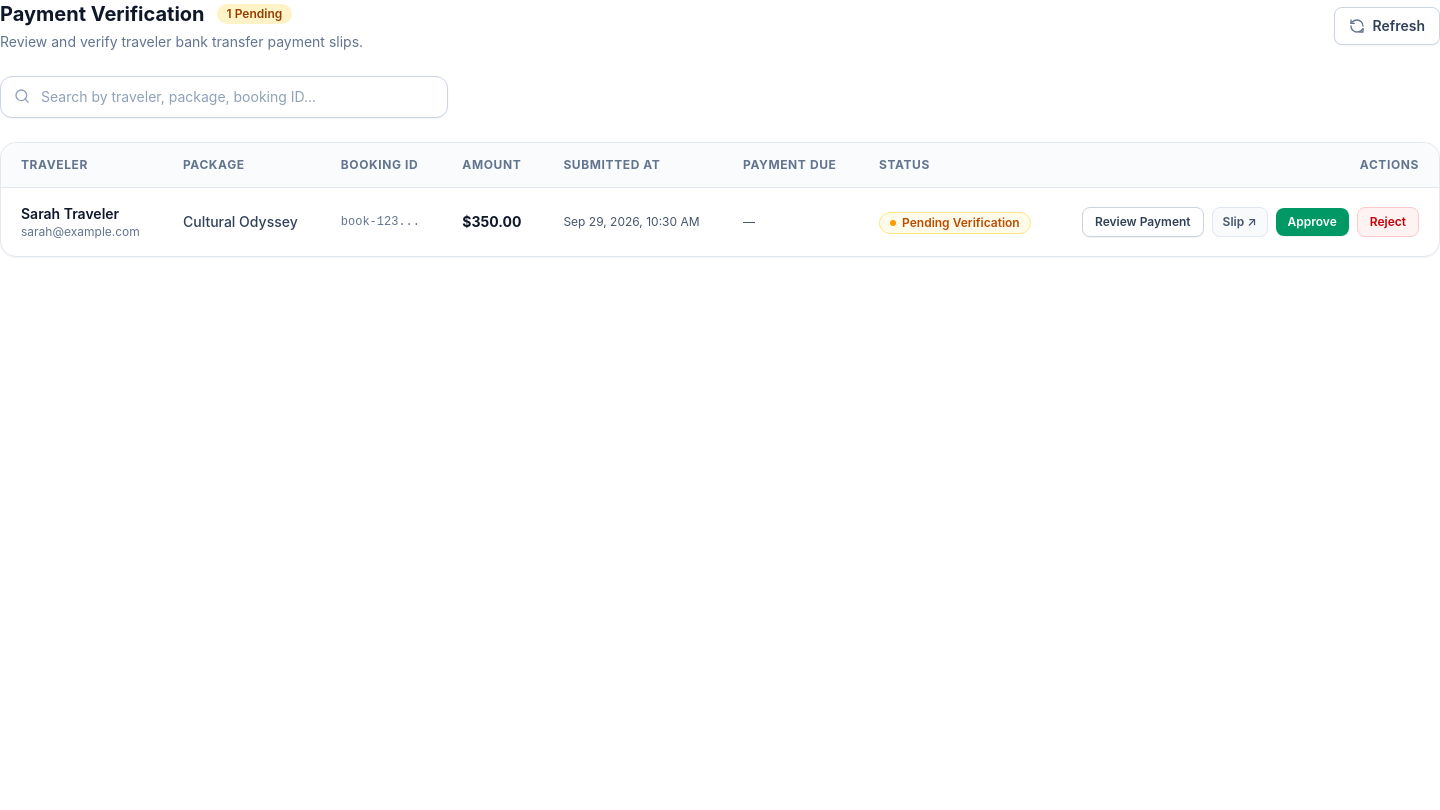
Test: OpsPaymentsPage › renders bank slip action and opens review modal with receipt image
This screenshot has width=1440, height=810.
expect the button "Slip ↗" is shown: met, box [1212,207,1268,237]
# Click Review Payment to open detail modal
Click the button "Review Payment". click: (1143, 222)
box: [1082,207,1204,237]
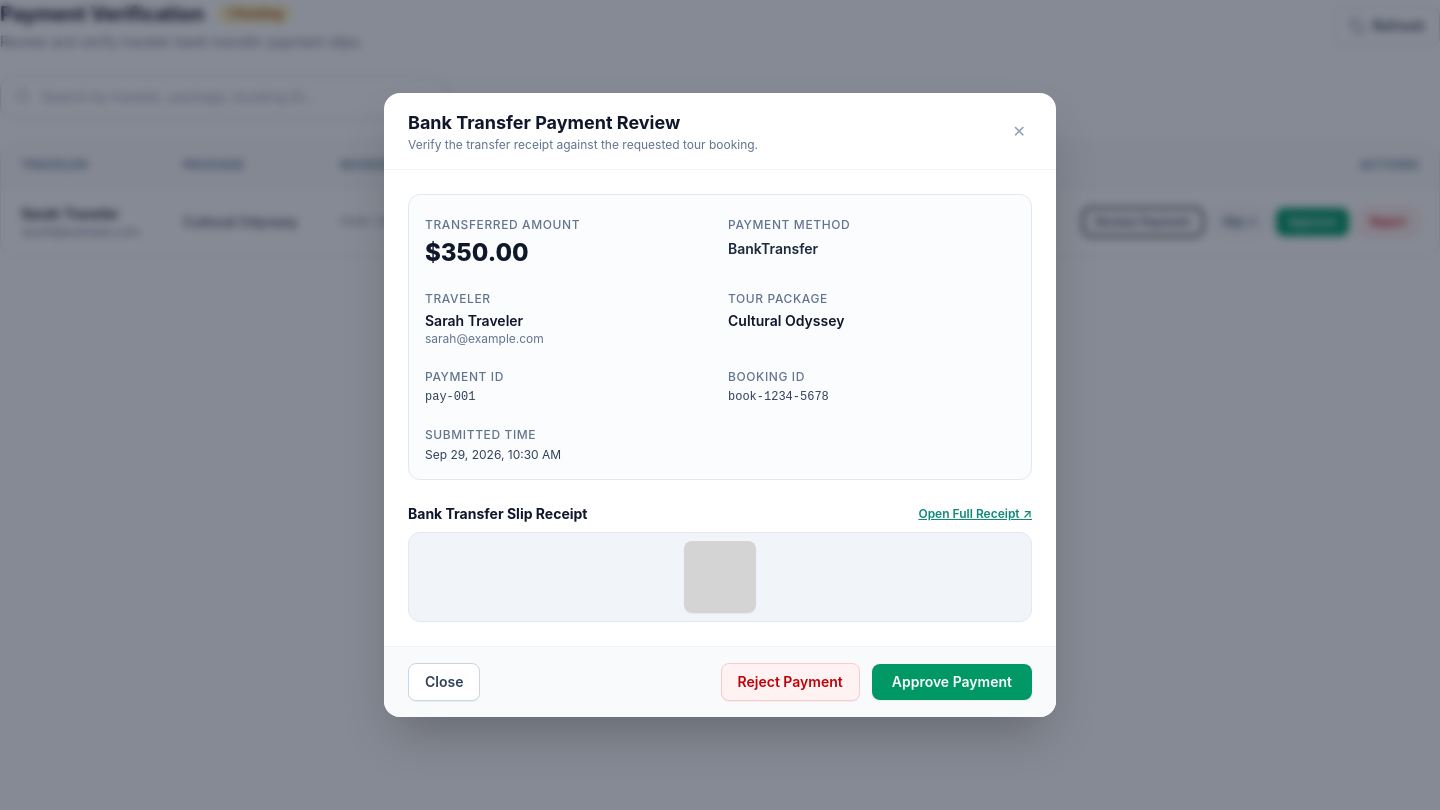
expect the heading "Bank Transfer Payment Review" is shown: met, box [408,112,680,133]
